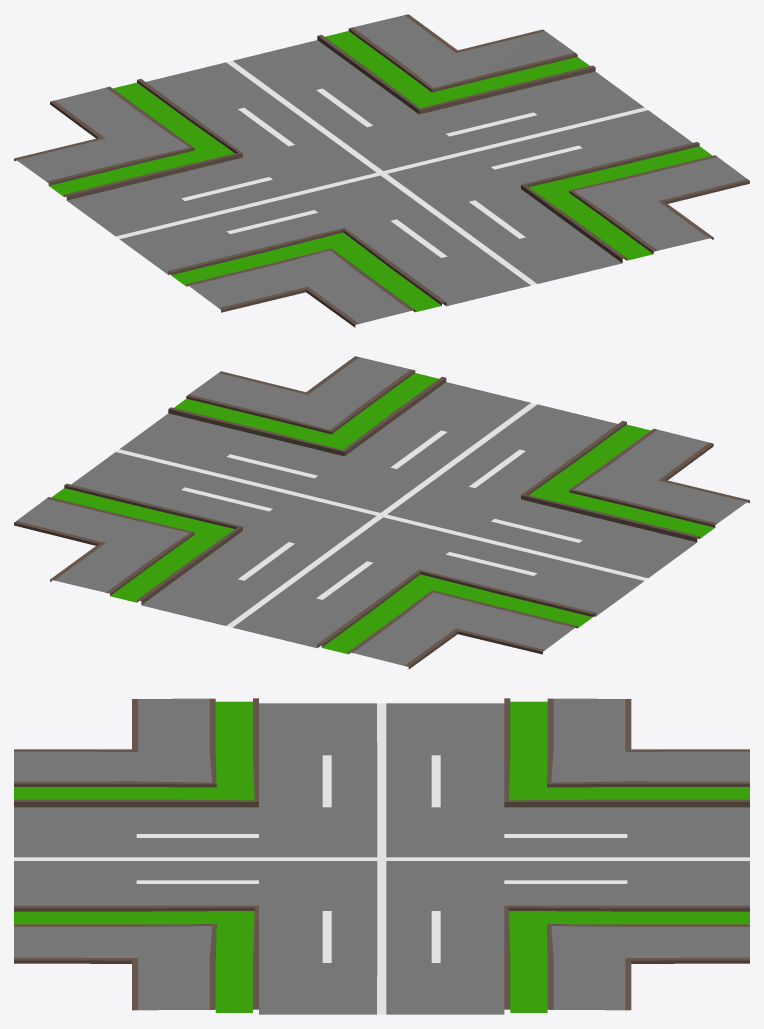
File: SM_Road_P14.fbx
The picture shows the model from 3 angles, top to bottom: view 1: azimuth 30°, elevation 25°; view 2: azimuth 150°, elevation 25°; view 3: azimuth 270°, elevation 25°; orthographic projection. The views are drawn at different scales.
Visible parts, largest first — view 1: SM_Road_P14; view 2: SM_Road_P14; view 3: SM_Road_P14.
Part boxes in pixels (x1,y1,x2,y2): SM_Road_P14: (14, 14, 749, 327); SM_Road_P14: (14, 356, 749, 669); SM_Road_P14: (14, 698, 749, 1014).
Bounding box in the file's own units: 3666 × 28.46 × 3663.
